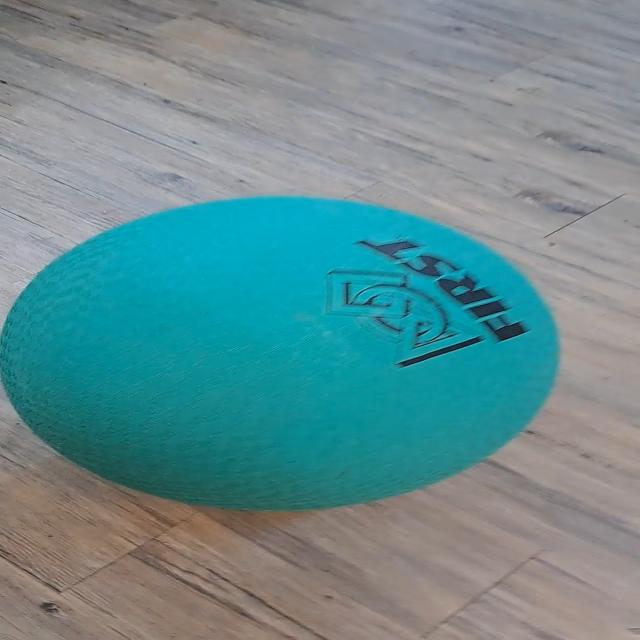ALGAE: (1, 194, 563, 512)
